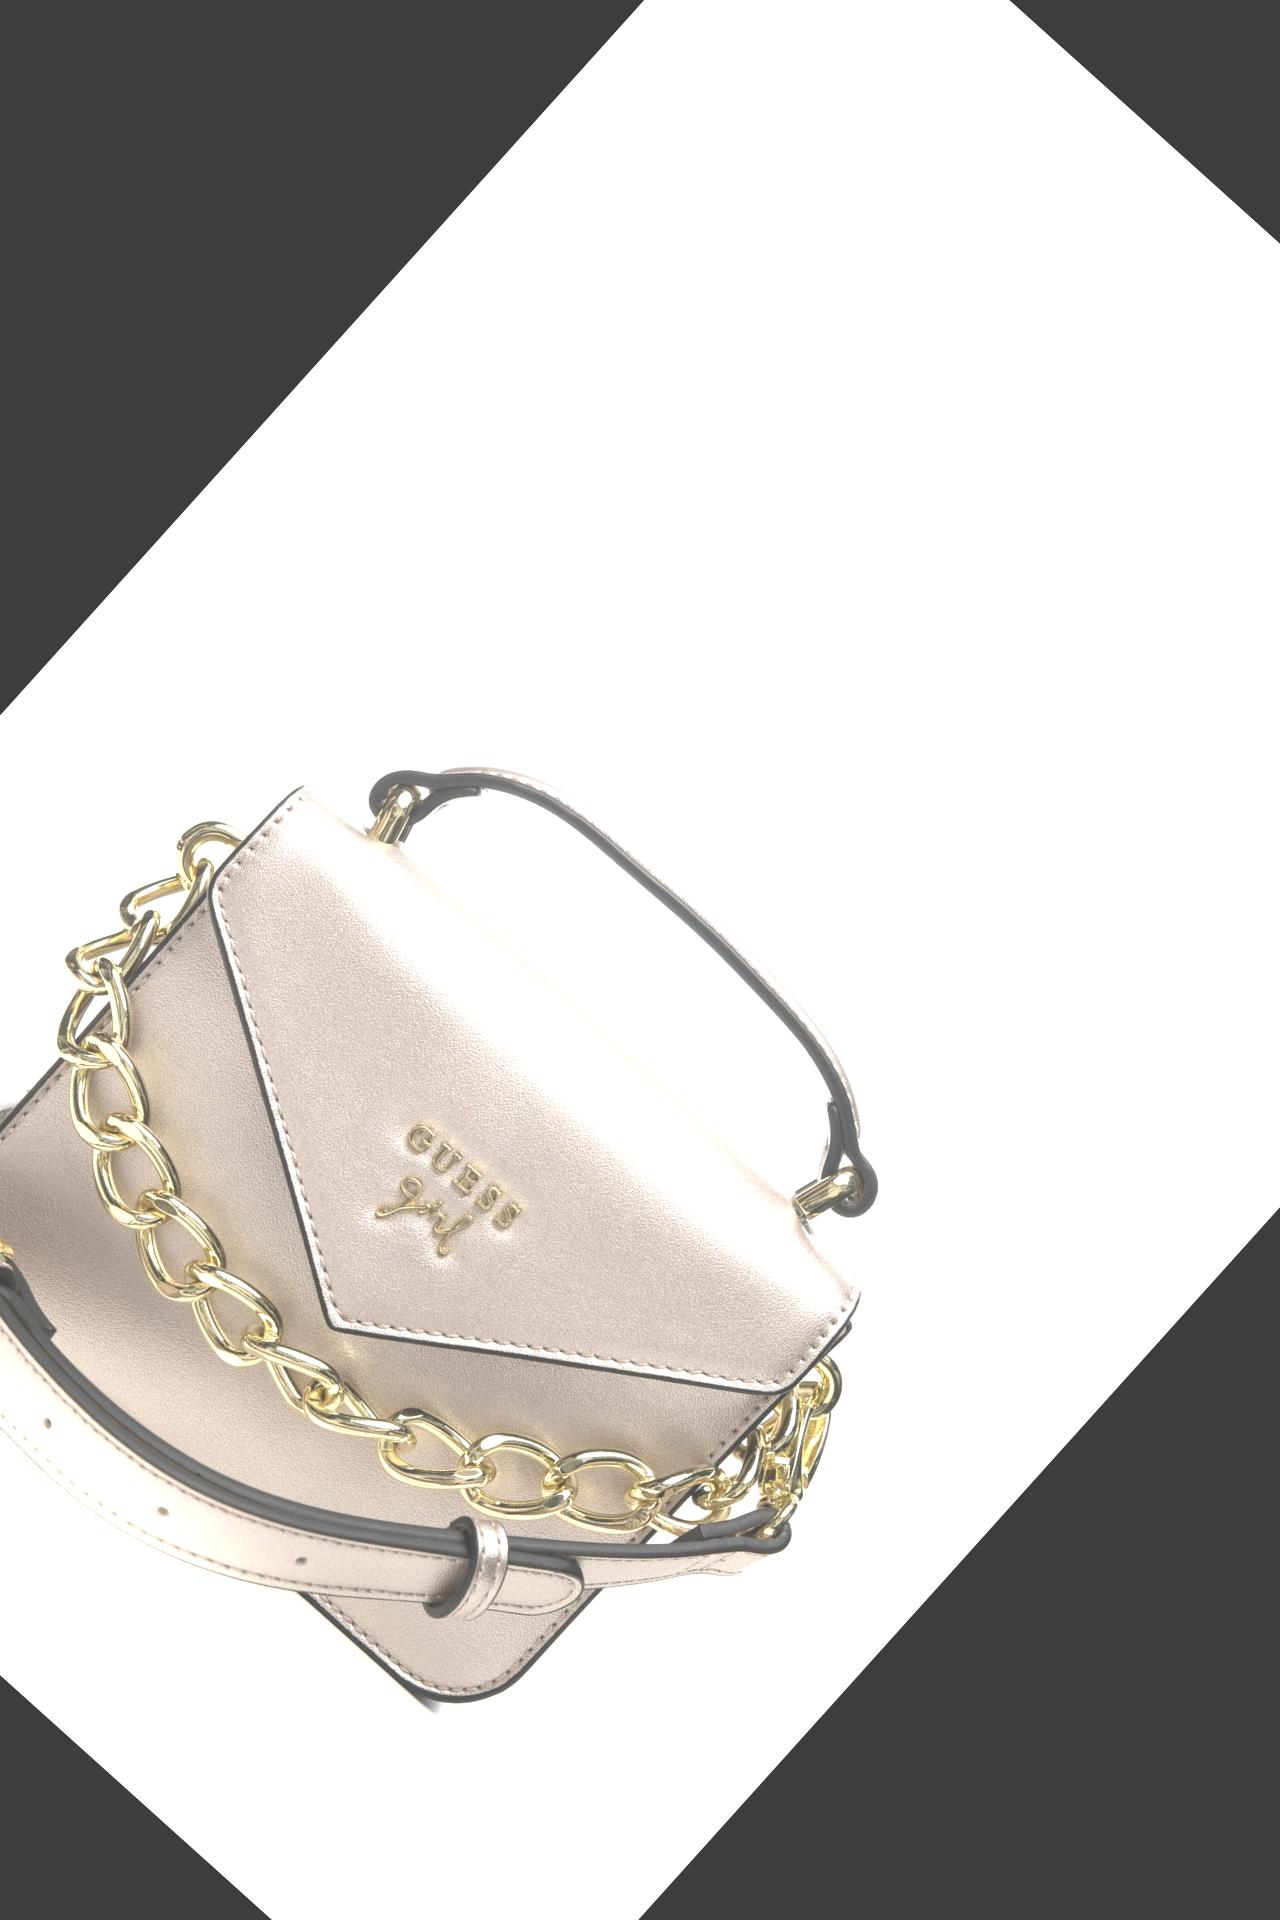GUESS: (401, 1120, 521, 1231)
